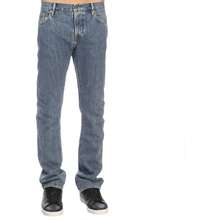jeans: (19, 2, 118, 191)
